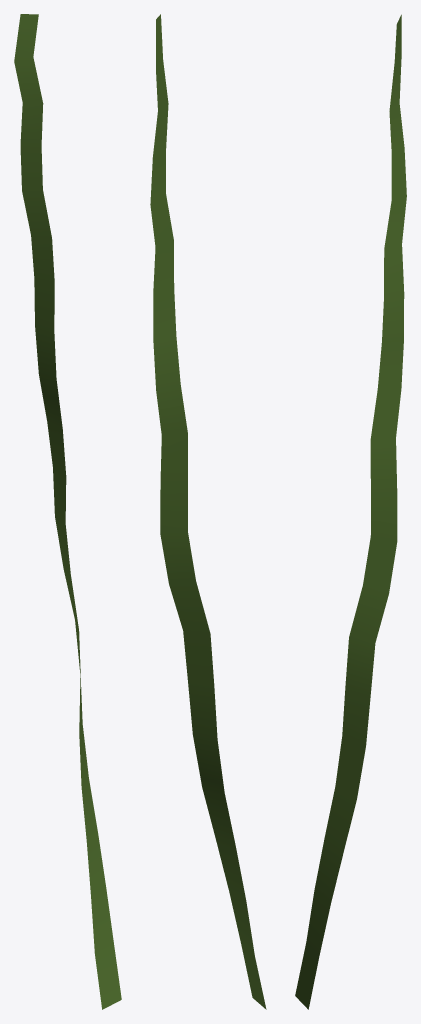
File: plant_swamp_kelp_long_solo_V.fbx
3 views of the same model, side by side, from view 1: azimuth 90°, elevation 25°; view 2: azimuth 150°, elevation 25°; view 3: azimuth 330°, elevation 25° (orthographic). The views are drawn at different scales.
Parts seen in each view (by area): view 1: plant_swamp_kelp_long_solo_V; view 2: plant_swamp_kelp_long_solo_V; view 3: plant_swamp_kelp_long_solo_V.
Part boxes in pixels (left/top/right/bottom): plant_swamp_kelp_long_solo_V: left=14, top=14, right=121, bottom=1009; plant_swamp_kelp_long_solo_V: left=150, top=14, right=266, bottom=1009; plant_swamp_kelp_long_solo_V: left=295, top=14, right=406, bottom=1009.
Size of the model in its own units: 17.89 by 211 by 21.28.
